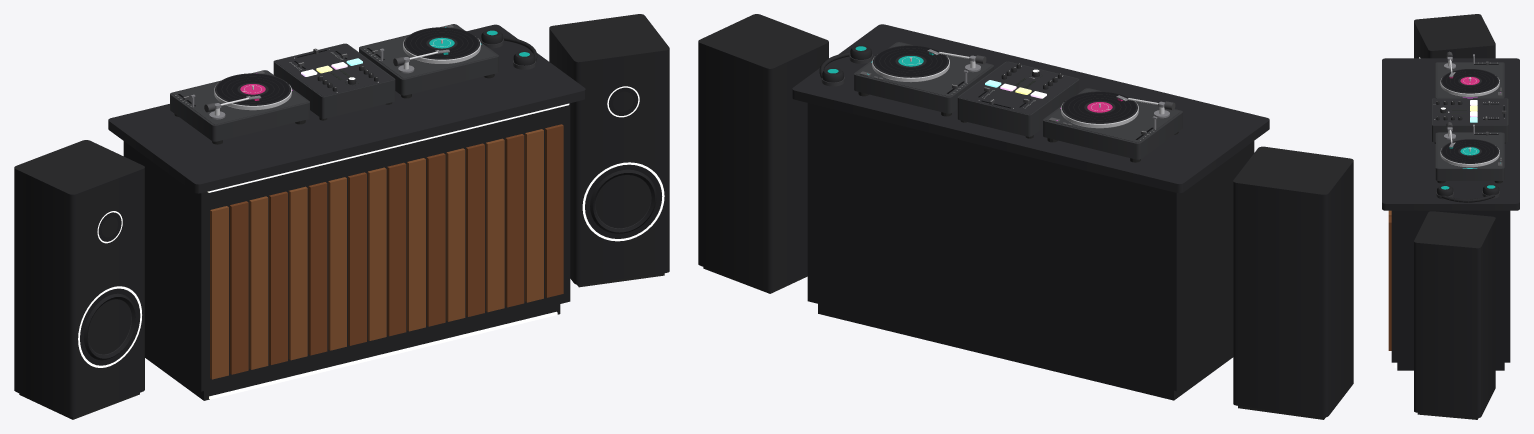
File: dj-deck.glb
3 renders of one model, left to right at view 1: azimuth 30°, elevation 25°; view 2: azimuth 150°, elevation 25°; view 3: azimuth 270°, elevation 25°, orthographic. The views are drawn at different scales.
Parts seen in each view (by area): view 1: Booth, Speaker_R, Speaker_L, Mixer, Deck_B, Deck_A, Booth_Led, Record_B, Record_A, Speaker_Cone_L, Headphones, Speaker_Cone_R; view 2: Booth, Speaker_R, Speaker_L, Mixer, Deck_B, Deck_A, Record_B, Record_A, Headphones; view 3: Booth, Speaker_L, Speaker_R, Mixer, Deck_A, Deck_B, Record_A, Record_B, Headphones, Platter_A, Platter_B, Tonearm_B (+2 smaller).
Boxes of the visible parts, x1,y1,x2,y2 form: Booth: (108,24,585,400); Speaker_R: (14,140,144,419); Speaker_L: (549,14,669,287); Mixer: (273,43,395,120); Deck_B: (170,70,309,144); Deck_A: (359,24,498,98); Booth_Led: (207,103,569,399); Record_B: (215,73,290,105); Record_A: (404,27,479,59); Speaker_Cone_L: (590,169,656,233); Headphones: (480,29,537,69); Speaker_Cone_R: (84,293,135,360); Booth: (792,24,1269,400); Speaker_R: (1233,146,1353,419); Speaker_L: (698,14,828,293); Mixer: (957,61,1079,138); Deck_B: (1043,88,1182,162); Deck_A: (854,42,993,116); Record_B: (1062,91,1137,123); Record_A: (873,45,948,77); Headphones: (819,45,872,86); Booth: (1382,58,1519,370); Speaker_L: (1414,211,1495,419); Speaker_R: (1414,14,1495,58); Mixer: (1432,98,1508,143); Deck_A: (1435,124,1504,183); Deck_B: (1435,54,1504,98); Record_A: (1441,139,1498,163); Record_B: (1441,69,1498,93); Headphones: (1436,184,1499,202); Platter_A: (1440,147,1499,167); Platter_B: (1440,77,1499,96); Tonearm_B: (1444,51,1455,78).
Bounding box in the file's own units: 2.9 × 1.15 × 0.7199.
